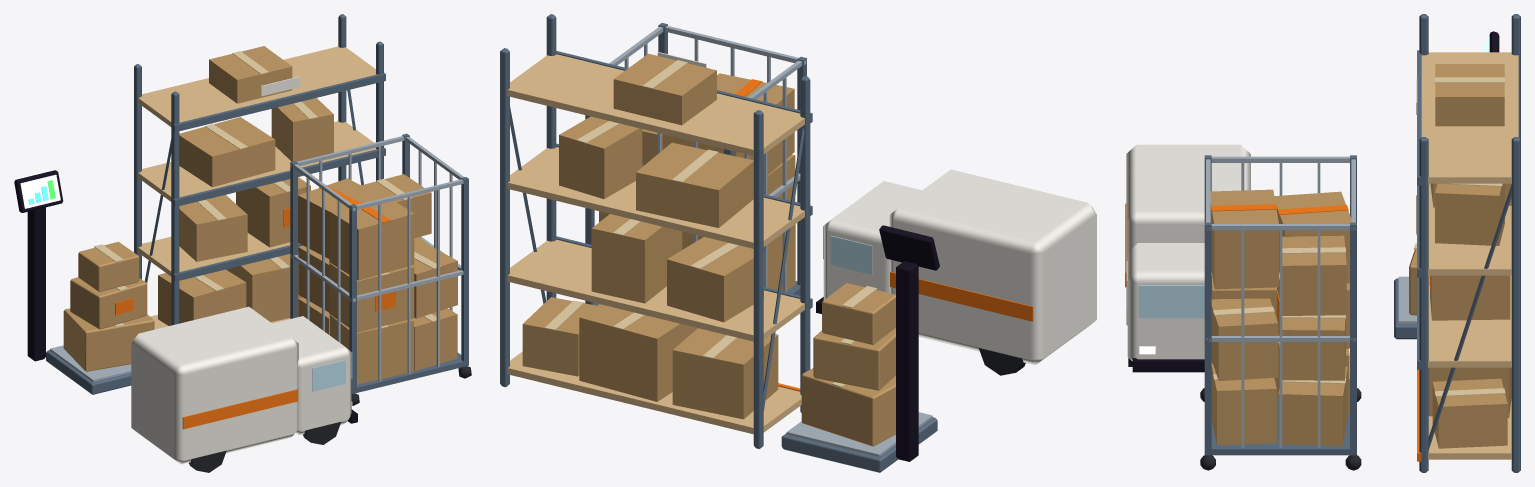
File: station_transport_2.glb
3 views of the same model, side by side, from view 1: azimuth 30°, elevation 25°; view 2: azimuth 150°, elevation 25°; view 3: azimuth 270°, elevation 25° (orthographic). The views are drawn at different scales.
Parts seen in each view (by area): view 1: station_transport_2; view 2: station_transport_2; view 3: station_transport_2.
Part boxes in pixels (left/top/right/bottom): station_transport_2: left=14, top=14, right=471, bottom=472; station_transport_2: left=500, top=14, right=1096, bottom=472; station_transport_2: left=1125, top=14, right=1520, bottom=472.
Bounding box in the file's own units: 2.09 × 1.6 × 1.72.
